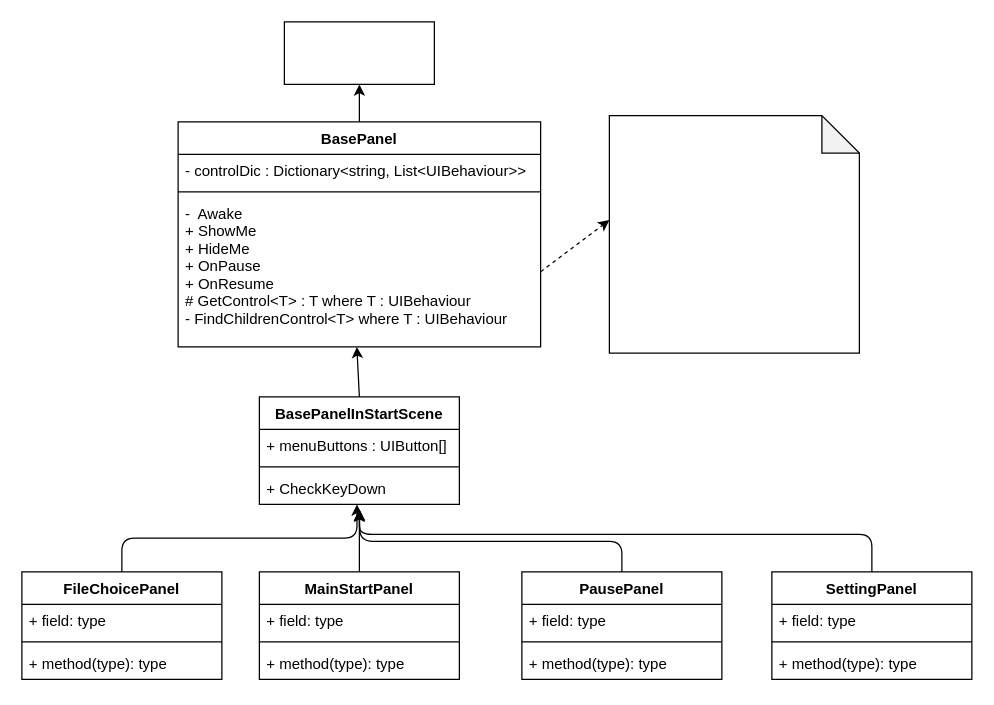
Some shapes in this 994 by 705 pixel diagram are drawn without their labels. Here are the shapes that lost their labels. From the top down, the centre of each, then its label:
At pixel 358 52: "MonoBehavior".
At pixel 733 233: "Awake中查找所有子控件FindChildrenControl Button Image Text Toggle Slider ScrollRect".
